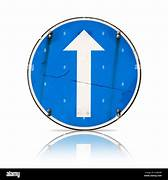forward: (27, 17, 142, 131)
